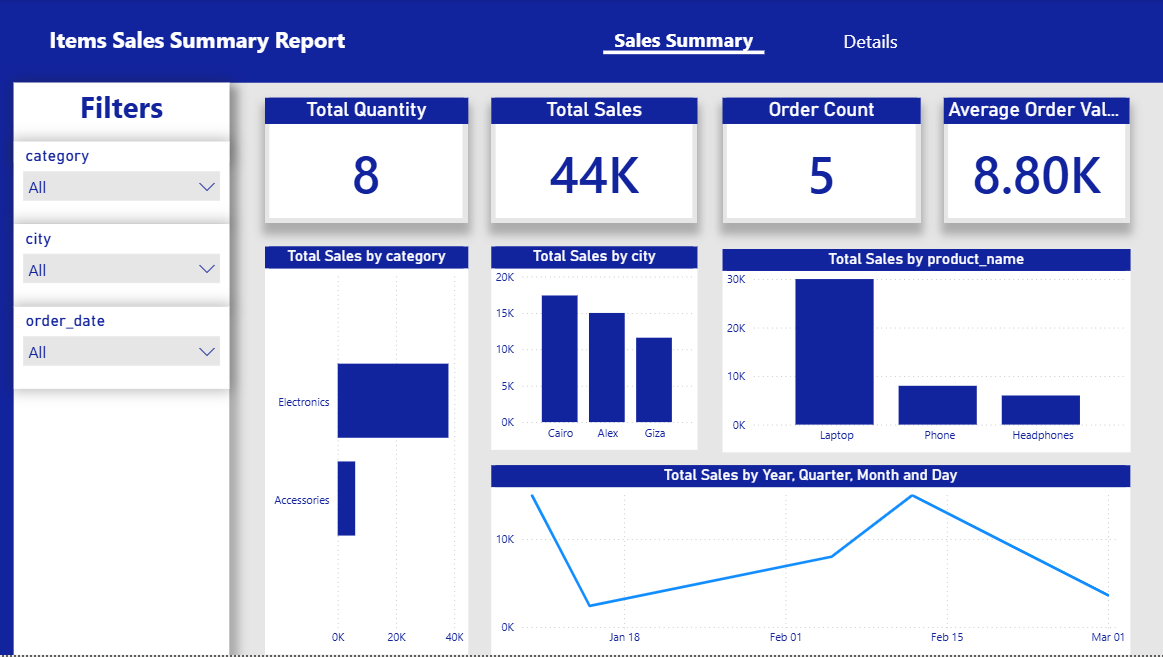

The dashboard page shown, as its layout file describes it:
{"tool":"powerbi","page":{"name":"Sales Summary","canvas":[1280,720],"ordinal":0},"visuals":[{"type":"cardVisual","title":"Total Quantity","fields":{"Data":["orders.Total Quantity"]},"box":[291.1,108.9,223,137.9],"z":0},{"type":"cardVisual","title":"Total Sales","fields":{"Data":["orders.Total Sales"]},"box":[539.6,108.9,226.4,137.9],"z":1000},{"type":"cardVisual","title":"Order Count","fields":{"Data":["orders.Order Count"]},"box":[793.2,108.9,217.9,137.9],"z":2000},{"type":"cardVisual","title":"Average Order Value","fields":{"Data":["orders.Average Order Value"]},"box":[1036.6,108.9,204.3,137.9],"z":3000},{"type":"shape","box":[0,0,1280,91.9],"z":4000},{"type":"shape","box":[0,90.2,15.3,629.8],"z":5000},{"type":"textbox","box":[49.4,23.8,403.4,66.4],"z":6000},{"type":"shape","box":[15.3,91.9,236.6,628.1],"z":7000},{"type":"barChart","fields":{"Category":["products.category"],"Y":["orders.Total Sales"]},"box":[291.1,272.3,223,447.7],"z":8000},{"type":"columnChart","fields":{"Category":["products.product_name"],"Y":["orders.Total Sales"]},"box":[793.2,274,447.7,223],"z":9000},{"type":"lineChart","fields":{"Category":["orders.order_date.Variation.Date Hierarchy.Year","orders.order_date.Variation.Date Hierarchy.Quarter","orders.order_date.Variation.Date Hierarchy.Month","orders.order_date.Variation.Date Hierarchy.Day"],"Y":["orders.Total Sales"]},"box":[539.6,512.3,701.3,207.7],"z":10000},{"type":"columnChart","fields":{"Y":["orders.Total Sales"],"Category":["customers.city"]},"box":[539.6,272.3,226.4,223],"z":11000},{"type":"textbox","box":[15.3,91.9,236.6,86.8],"z":12000},{"type":"slicer","fields":{"Values":["products.category"]},"box":[15.3,156.6,236.6,90.2],"z":13000},{"type":"slicer","fields":{"Values":["customers.city"]},"box":[15.3,246.8,236.6,90.2],"z":14000},{"type":"slicer","fields":{"Values":["orders.order_date"]},"box":[15.3,337,236.6,90.2],"z":15000},{"type":"pageNavigator","box":[653.6,20.4,400,49.4],"z":16000}]}

Visuals, with their boxes in screenshot pixels (x1, y1, x2, y2), scaled from the page's 1280x720 canvas onto the 1163x657 screenshot:
"Total Quantity" cardVisual: crop(264, 99, 467, 225)
"Total Sales" cardVisual: crop(490, 99, 696, 225)
"Order Count" cardVisual: crop(721, 99, 919, 225)
"Average Order Value" cardVisual: crop(942, 99, 1127, 225)
shape: crop(0, 0, 1162, 84)
shape: crop(0, 82, 14, 656)
textbox: crop(45, 22, 411, 82)
shape: crop(14, 84, 229, 656)
barChart - products.category x orders.Total Sales: crop(264, 248, 467, 656)
columnChart - products.product_name x orders.Total Sales: crop(721, 250, 1127, 454)
lineChart - orders.order_date.Variation.Date Hierarchy.Year x orders.order_date.Variation.Date Hierarchy.Quarter: crop(490, 467, 1127, 656)
columnChart - orders.Total Sales x customers.city: crop(490, 248, 696, 452)
textbox: crop(14, 84, 229, 163)
slicer - products.category: crop(14, 143, 229, 225)
slicer - customers.city: crop(14, 225, 229, 308)
slicer - orders.order_date: crop(14, 308, 229, 390)
pageNavigator: crop(594, 19, 957, 64)
